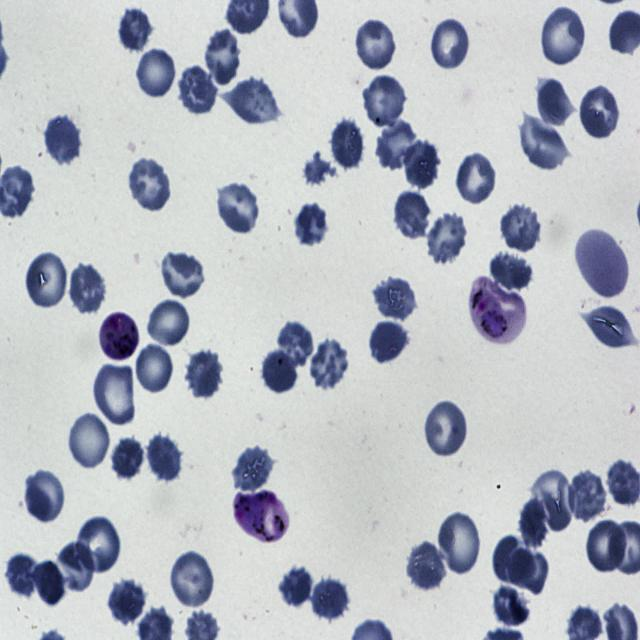difficult: (234, 490, 288, 546)
red blood cell: (577, 227, 629, 302), (436, 509, 484, 577), (540, 3, 589, 68), (92, 360, 138, 428), (222, 76, 282, 127), (531, 465, 575, 534), (424, 398, 471, 459), (169, 549, 215, 611), (518, 115, 568, 172), (24, 248, 68, 311), (76, 515, 122, 574), (67, 411, 112, 471), (214, 178, 261, 235), (580, 304, 638, 350), (362, 73, 408, 129), (578, 83, 622, 141), (585, 517, 629, 575), (158, 248, 206, 301), (306, 335, 352, 390), (424, 209, 469, 265), (203, 26, 244, 87), (127, 157, 172, 212), (354, 15, 398, 71), (454, 151, 498, 206), (22, 468, 66, 522), (375, 118, 419, 172), (66, 260, 107, 316), (430, 17, 471, 72), (147, 298, 192, 348), (492, 536, 537, 586), (499, 201, 542, 253), (406, 540, 448, 593), (43, 111, 82, 168), (178, 65, 220, 117), (136, 46, 177, 99), (233, 443, 274, 496), (56, 540, 96, 594), (374, 272, 417, 322), (184, 347, 223, 401), (509, 546, 551, 596), (393, 190, 434, 241), (402, 136, 440, 191), (107, 576, 147, 627), (535, 78, 575, 129), (367, 318, 411, 364), (490, 248, 534, 294), (136, 344, 174, 396), (568, 470, 607, 520), (330, 117, 366, 171), (145, 432, 182, 483), (308, 578, 349, 624), (276, 321, 316, 368), (262, 346, 299, 396), (118, 4, 154, 53), (280, 561, 316, 609), (491, 583, 530, 626), (30, 561, 64, 610), (519, 495, 548, 552), (111, 434, 145, 482), (293, 202, 329, 246), (7, 553, 38, 597)
trophozoite: (468, 276, 528, 347), (98, 312, 138, 363)
